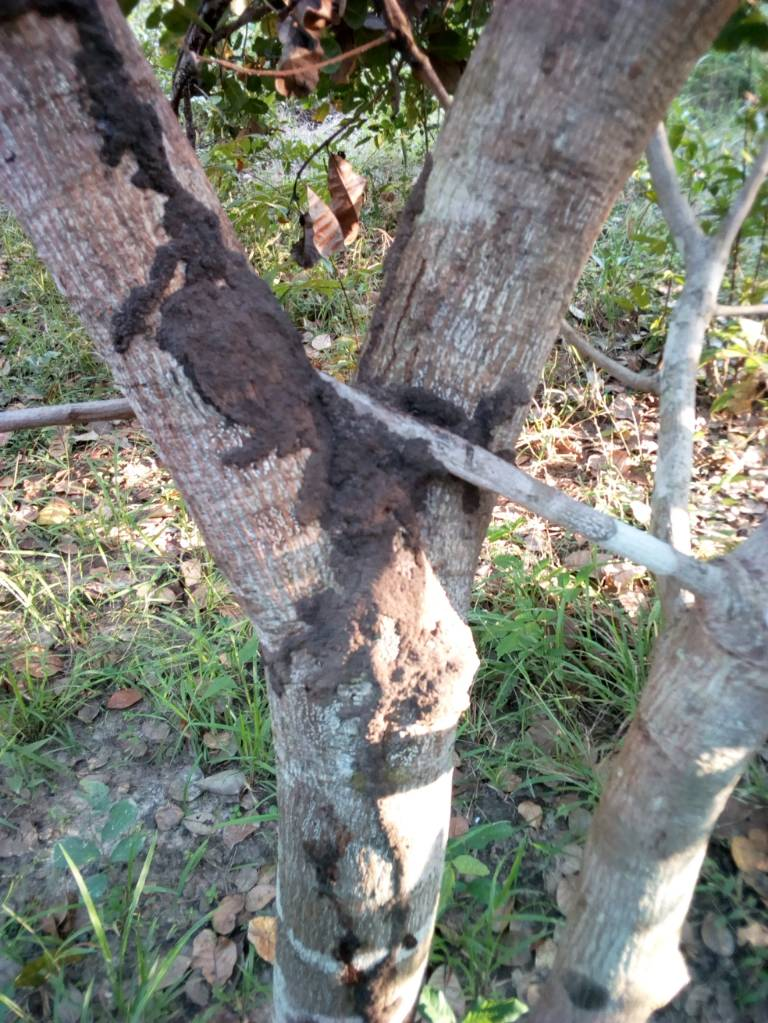Termites: (141, 199, 418, 555), (305, 572, 440, 799)
